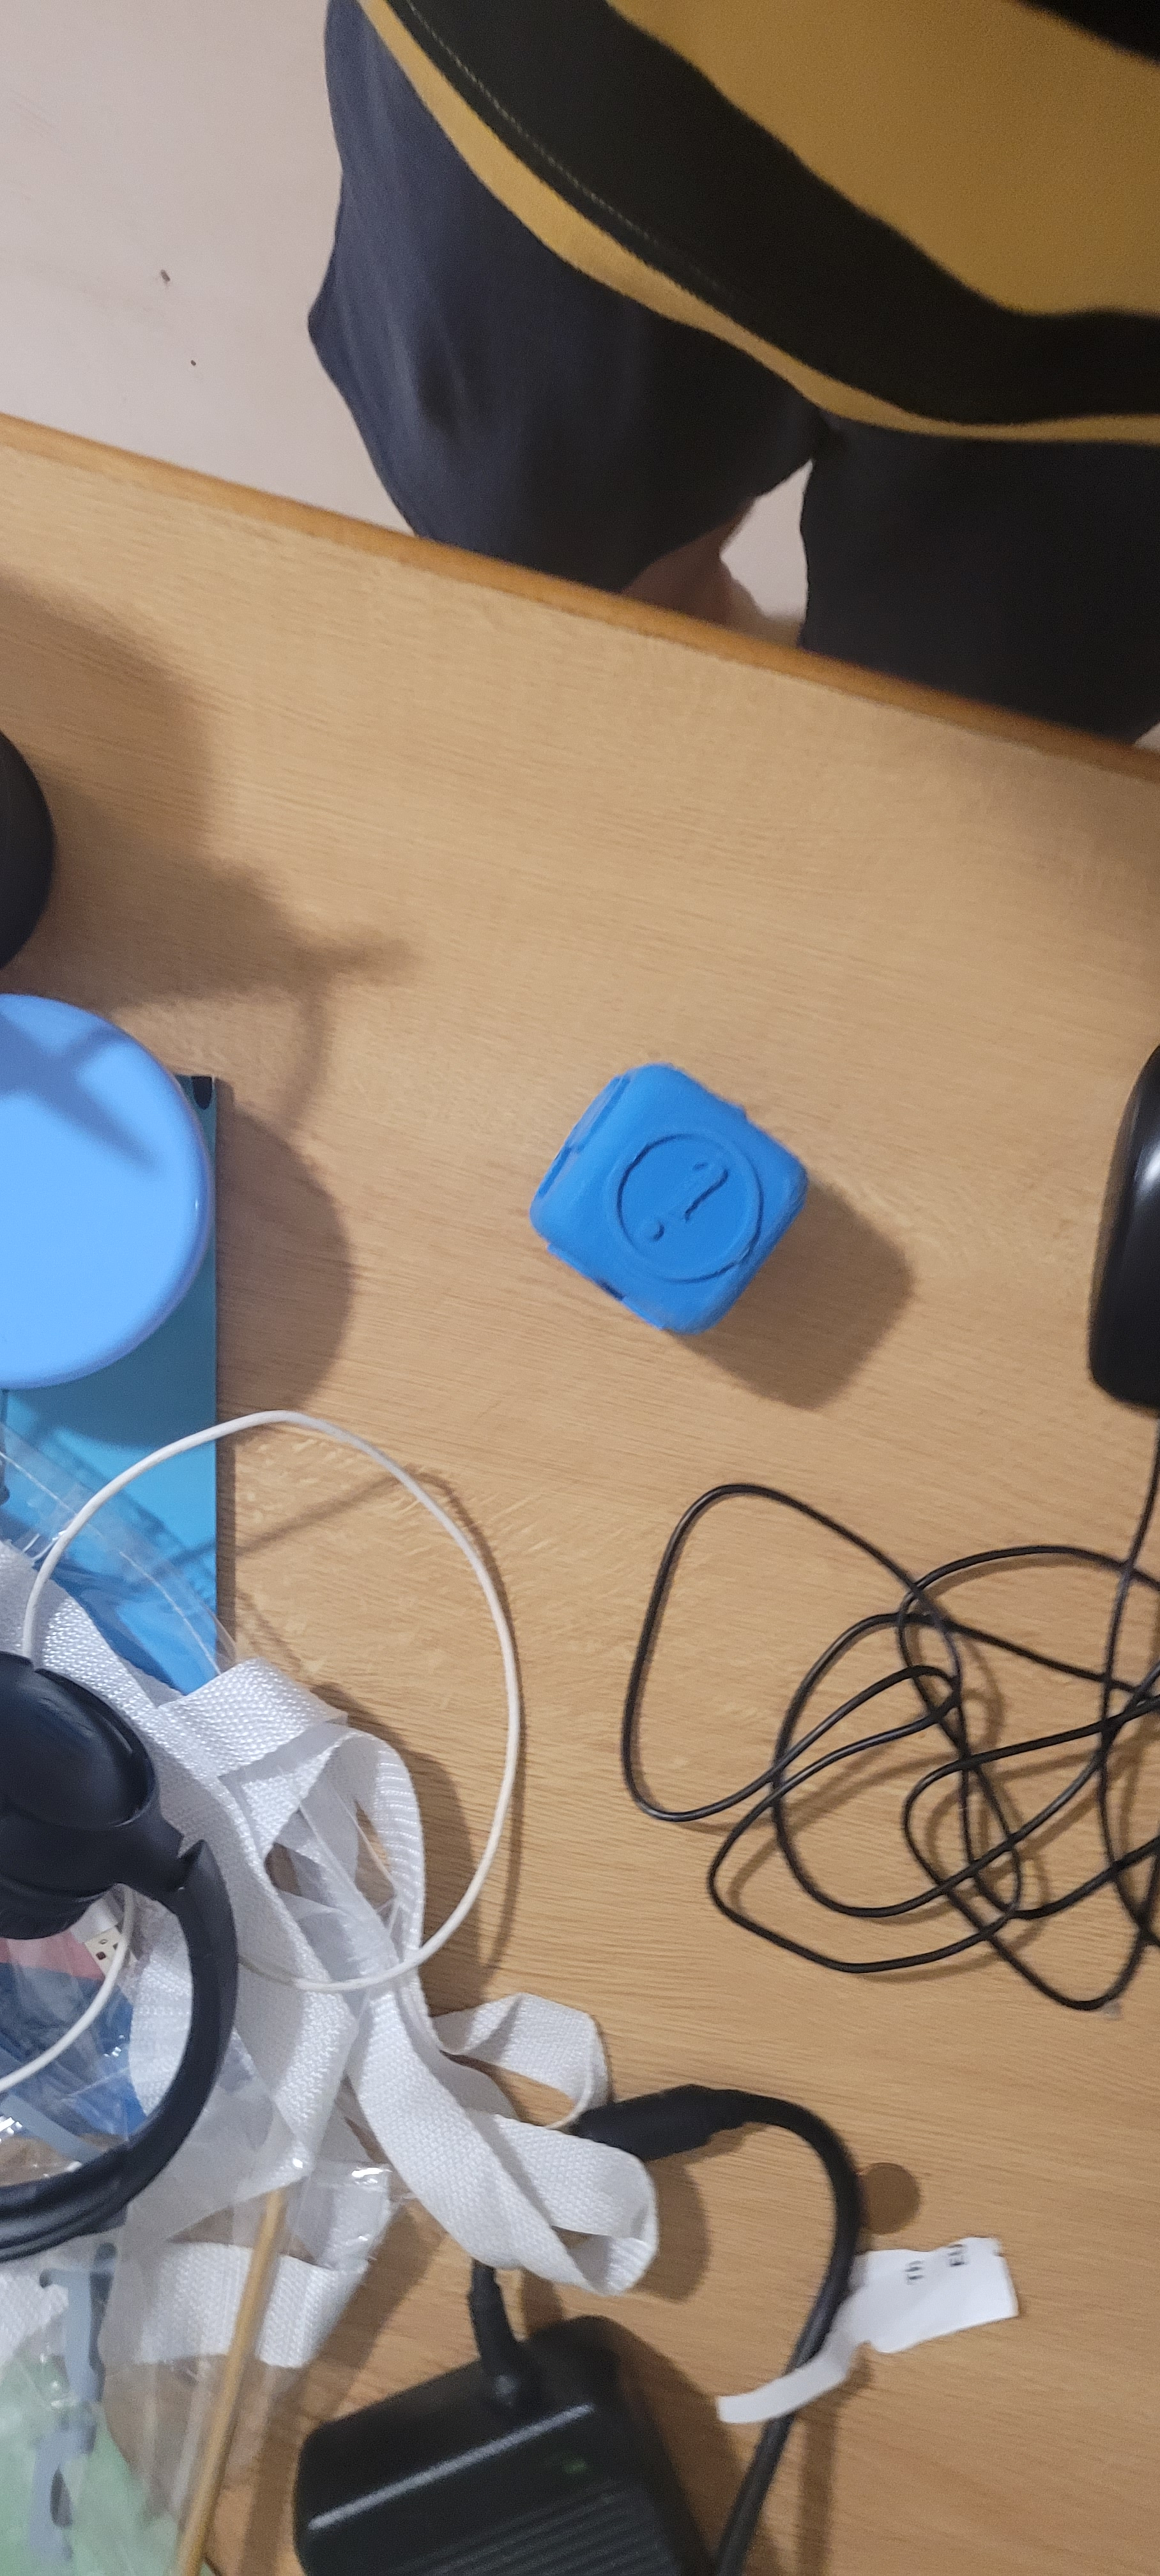Info: (619, 1050, 764, 1308)
